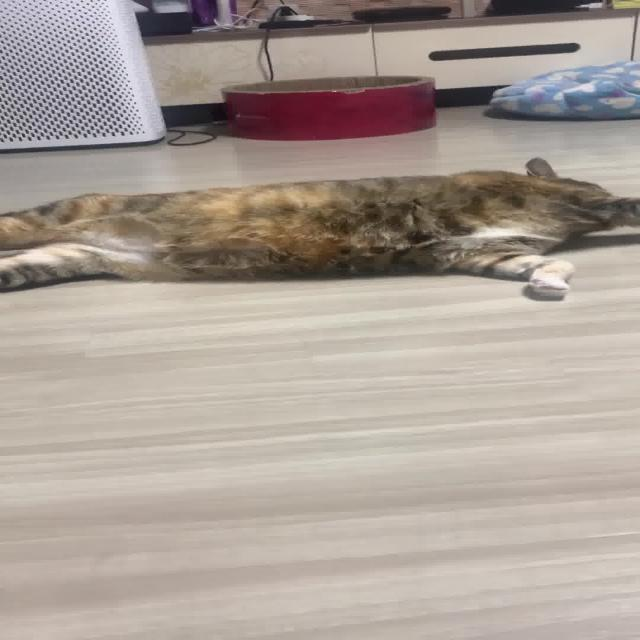cat: (0, 143, 640, 309)
